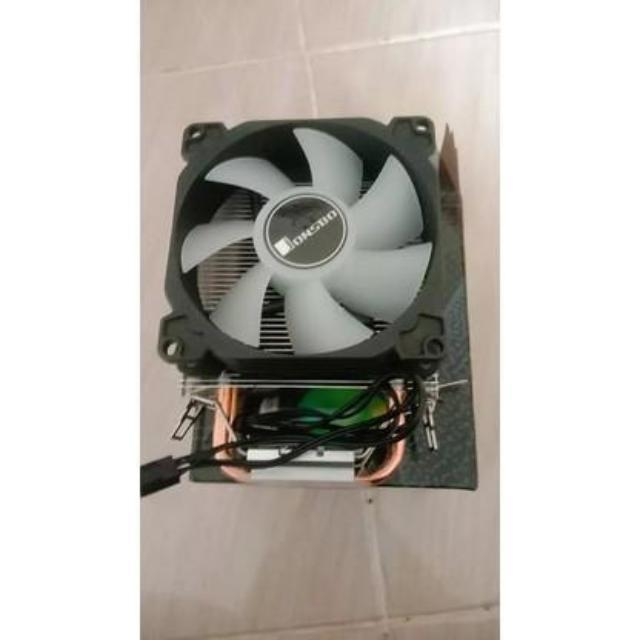CPU_Fan: (159, 113, 450, 498)
